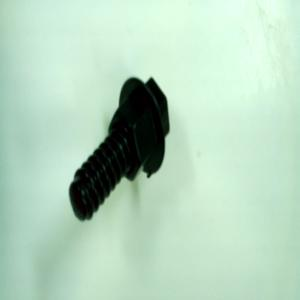parafuso: (68, 74, 171, 222), (67, 76, 171, 222)
